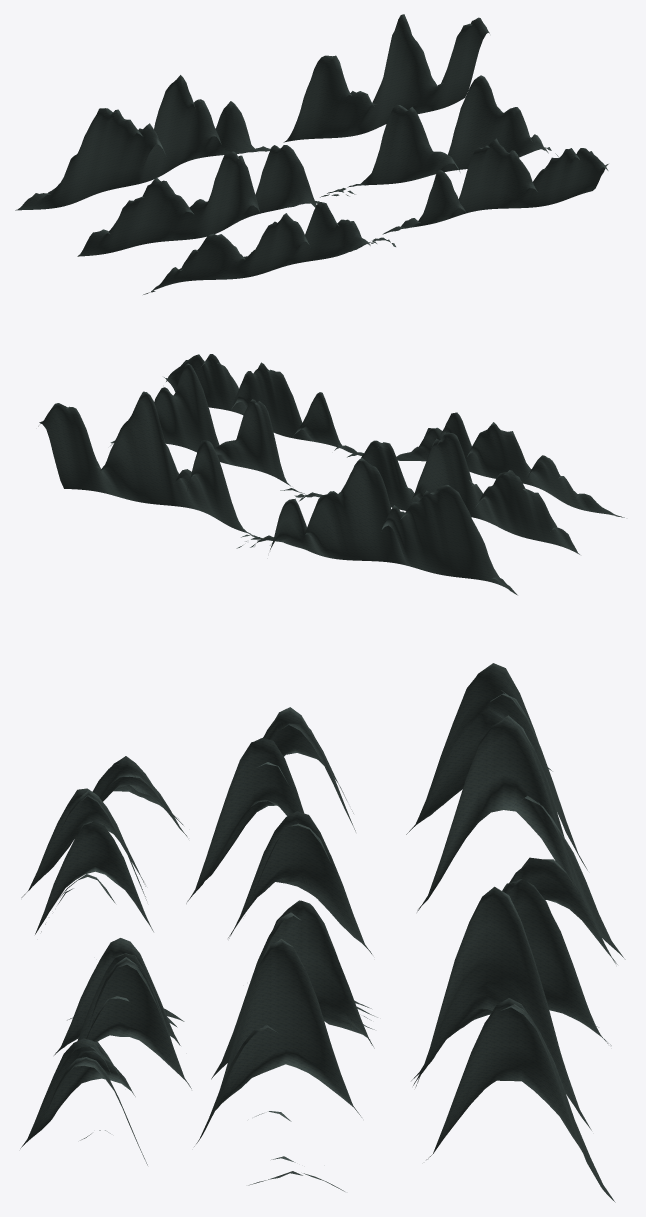
Rendered from background_lod0.glb.
3 renders of one model, top to bottom at view 1: azimuth 30°, elevation 25°; view 2: azimuth 150°, elevation 25°; view 3: azimuth 270°, elevation 25°, orthographic. The views are drawn at different scales.
Parts seen in each view (by area): view 1: background_L0__rock; view 2: background_L0__rock; view 3: background_L0__rock.
Boxes of the visible parts, x1,y1,x2,y2 form: background_L0__rock: (15, 14, 608, 294); background_L0__rock: (38, 354, 624, 595); background_L0__rock: (20, 663, 625, 1202).
Size of the model in its own units: 120 by 33.23 by 80.08.
Materials: 1 (1 with a texture image).
